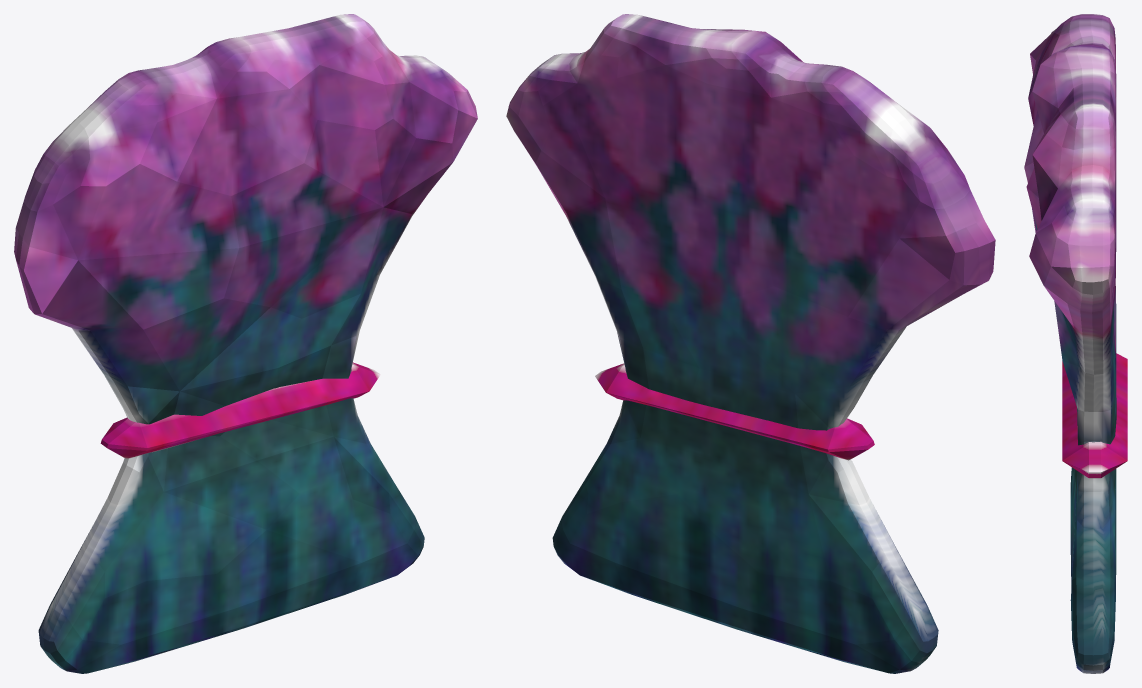
File: bouqetherb.fbx
The picture shows the model from 3 angles, left to right: view 1: azimuth 30°, elevation 25°; view 2: azimuth 150°, elevation 25°; view 3: azimuth 270°, elevation 25°; orthographic projection. The views are drawn at different scales.
Visible parts, largest first — view 1: boucey, ribbon; view 2: boucey, ribbon; view 3: boucey, ribbon.
Part boxes in pixels (<box>): boucey: <box>14,14,477,673</box>; ribbon: <box>100,362,380,458</box>; boucey: <box>506,14,995,673</box>; ribbon: <box>595,363,874,460</box>; boucey: <box>1024,14,1116,673</box>; ribbon: <box>1062,353,1127,478</box>.
Size of the model in its own units: 74.72 by 91.27 by 14.99.
